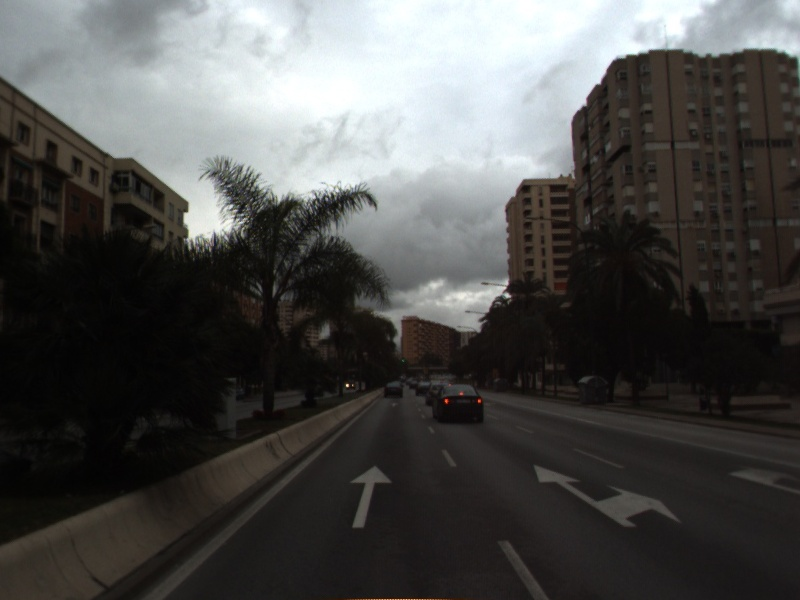RIGHT: (725, 461, 800, 494)
STRAIGHT: (347, 463, 395, 530)
STRAIGHT_RIGHT: (531, 462, 685, 530)
